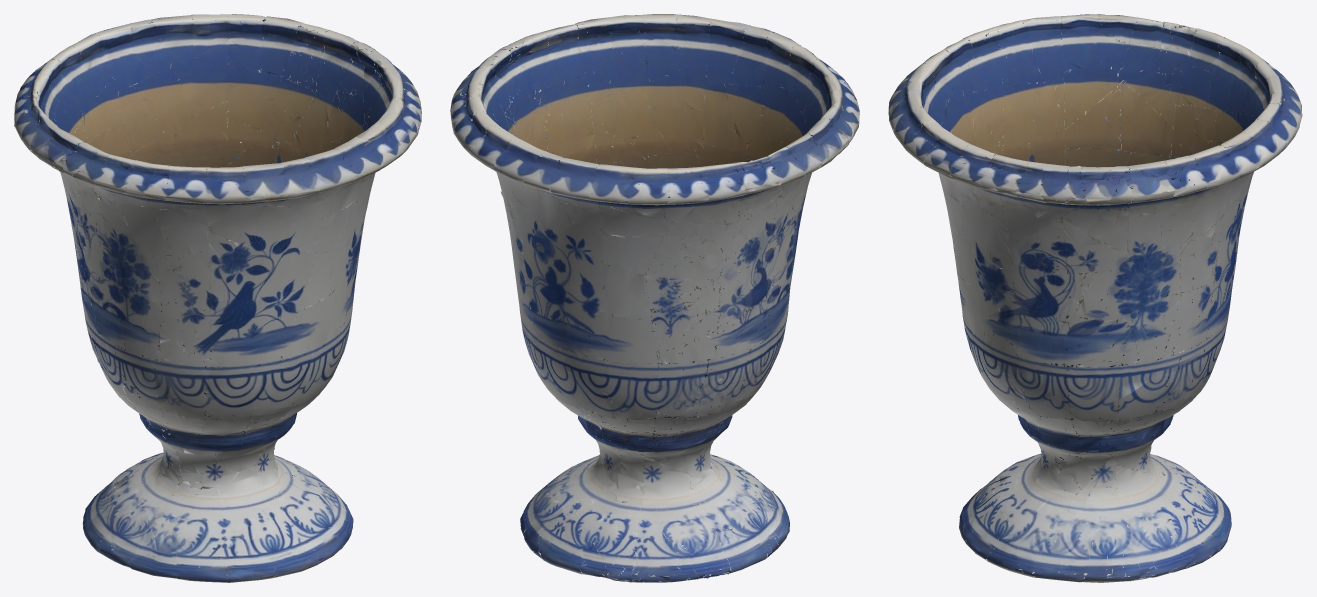
Rendered from faience-urn.glb.
3 renders of one model, left to right at view 1: azimuth 30°, elevation 25°; view 2: azimuth 150°, elevation 25°; view 3: azimuth 270°, elevation 25°, orthographic.
Visible parts, largest first — view 1: Object_4, Object_5, Object_7, Object_6, Object_8; view 2: Object_7, Object_6, Object_4, Object_8, Object_5; view 3: Object_6, Object_5, Object_7, Object_4, Object_8.
Part boxes in pixels (bbox=[...]): Object_4: bbox=[94, 94, 421, 582]; Object_5: bbox=[52, 58, 419, 578]; Object_7: bbox=[14, 14, 324, 501]; Object_6: bbox=[14, 23, 404, 566]; Object_8: bbox=[15, 30, 377, 550]; Object_7: bbox=[451, 94, 784, 581]; Object_6: bbox=[450, 49, 848, 582]; Object_4: bbox=[548, 14, 859, 505]; Object_8: bbox=[451, 56, 831, 575]; Object_5: bbox=[487, 23, 859, 557]; Object_6: bbox=[1055, 14, 1231, 582]; Object_5: bbox=[983, 16, 1139, 582]; Object_7: bbox=[1118, 26, 1302, 579]; Object_4: bbox=[888, 26, 1032, 561]; Object_8: bbox=[1098, 14, 1175, 581].
Bounding box in the file's own units: 1.71 × 2 × 1.72.
1 material, 1 textured.
